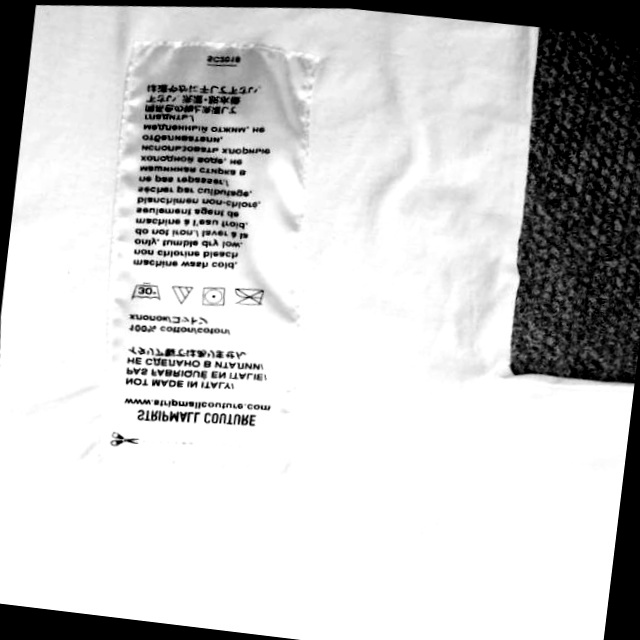30C: (127, 279, 164, 303)
DN_iron: (233, 284, 271, 313)
non_chlorine_bleach: (168, 282, 195, 306)
tumble_dry_low: (195, 283, 229, 308)
